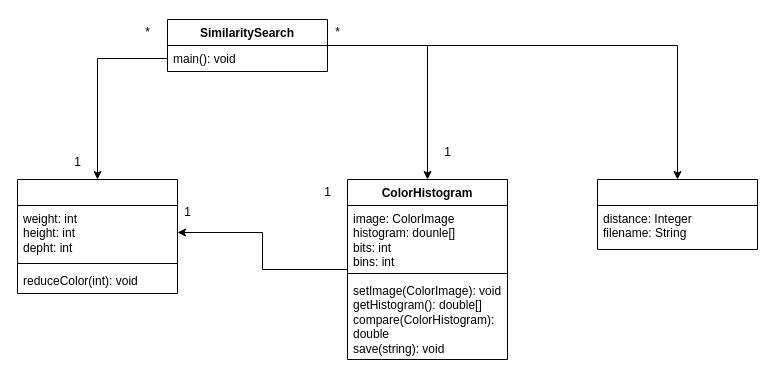
Some shapes in this 775 by 379 pixel diagram are drawn without their labels. Here are the shapes that lost their labels. From the top down, the box of each, then its label:
(596, 178, 758, 250): ImageDistance
(16, 178, 178, 294): ColorImage
